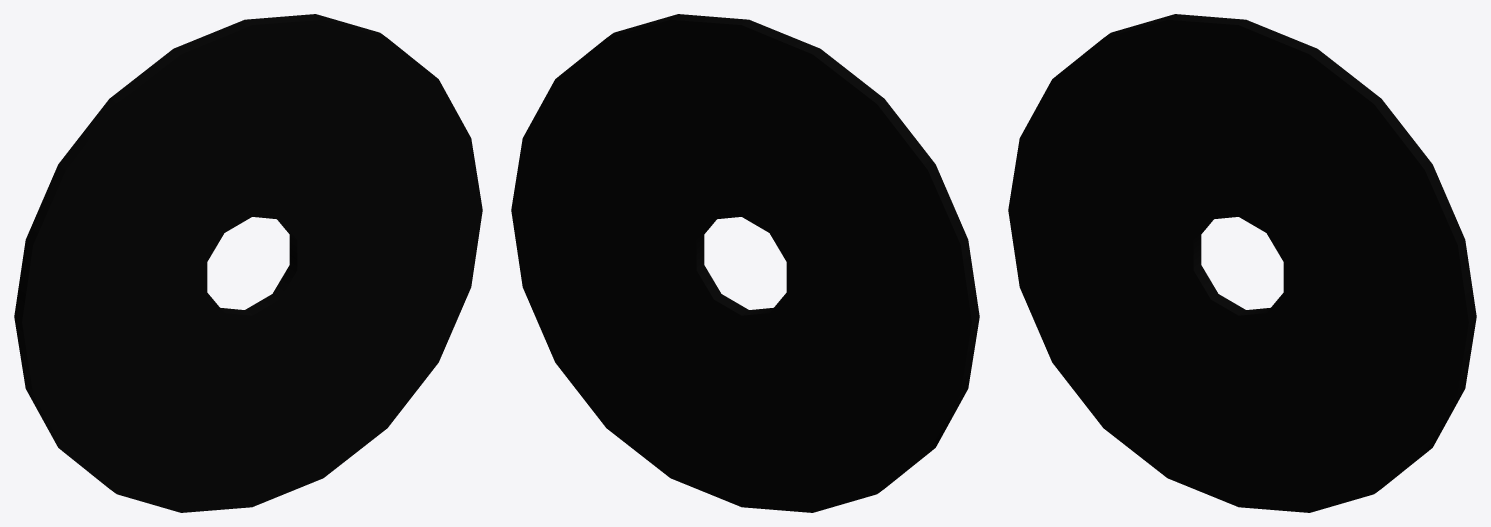
The model's file is wheedisc.fbx.
The picture shows the model from 3 angles, left to right: view 1: azimuth 30°, elevation 25°; view 2: azimuth 150°, elevation 25°; view 3: azimuth 330°, elevation 25°; orthographic projection.
Visible parts, largest first — view 1: wheedisc; view 2: wheedisc; view 3: wheedisc.
Boxes of the visible parts, <box> form: wheedisc: <box>14,14,482,512</box>; wheedisc: <box>511,14,979,512</box>; wheedisc: <box>1008,14,1476,512</box>.
Size of the model in its own units: 58.53 by 58.53 by 1.72.
